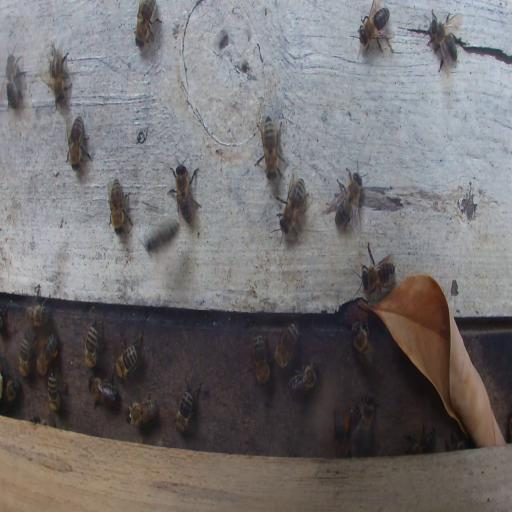bee: (424, 9, 462, 74), (168, 154, 201, 226), (278, 173, 310, 236), (332, 169, 363, 232), (357, 2, 393, 56), (361, 248, 395, 293), (48, 44, 70, 112), (107, 178, 133, 234), (114, 331, 142, 381), (173, 384, 201, 432), (5, 47, 26, 110), (273, 321, 300, 370), (260, 114, 280, 179), (134, 0, 161, 48), (66, 114, 90, 168), (330, 400, 352, 457), (352, 394, 377, 442), (144, 218, 179, 252), (35, 331, 60, 378), (405, 420, 437, 454), (126, 394, 158, 427), (287, 361, 318, 395), (251, 332, 270, 386), (88, 375, 118, 409), (351, 320, 373, 366), (28, 288, 50, 327), (84, 322, 100, 370), (47, 372, 63, 413), (19, 334, 32, 380), (3, 375, 20, 406)
